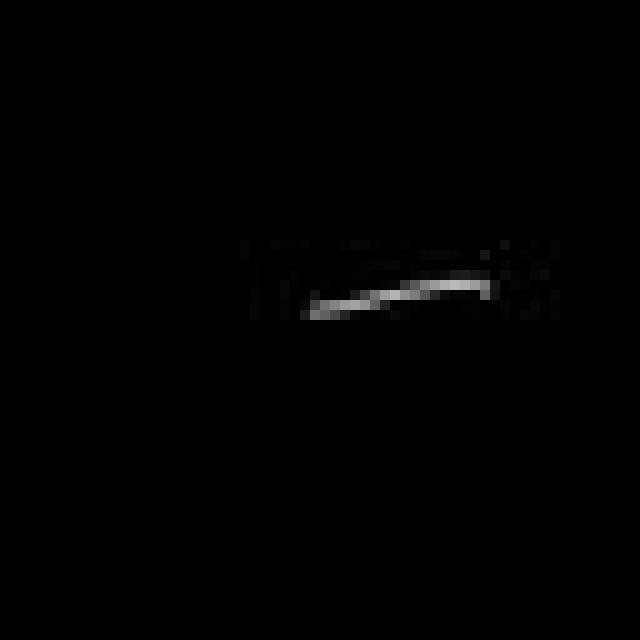1 -one-: (296, 265, 497, 331)
